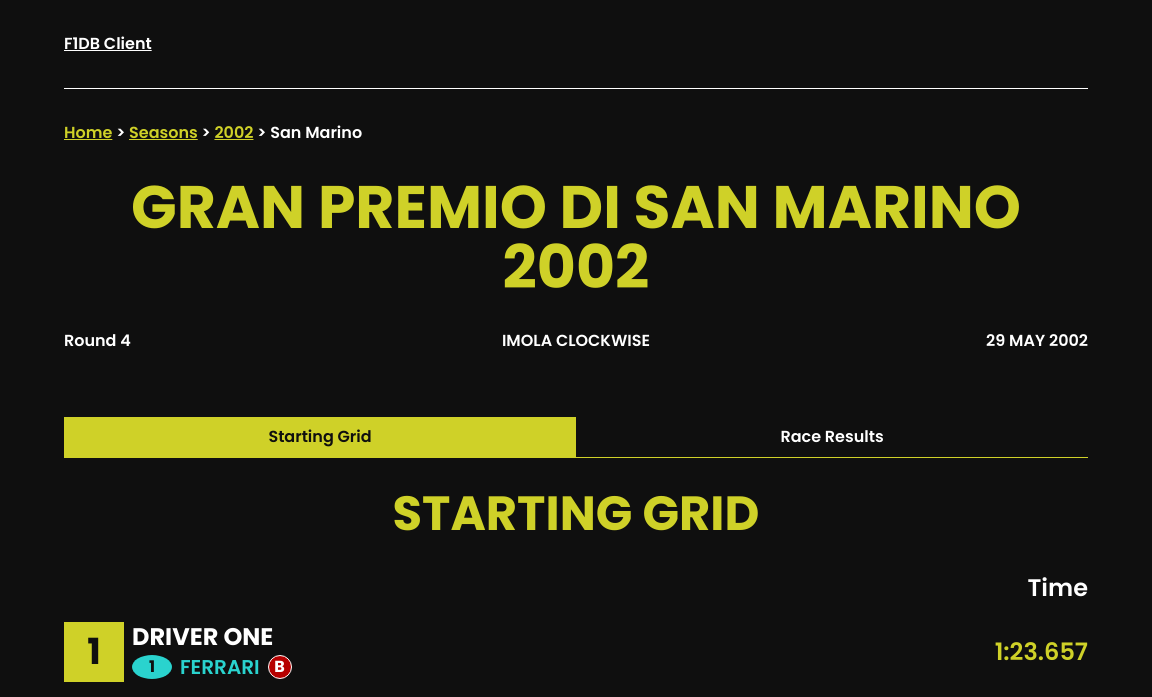
it: SeasonGrandPrixPage › should switch back to the starting grid tab from race results by clicking on its tab head
Step 1. Click the button with test id "tabs-tab-head" showing "Race Results" → coordinates (832, 437), box [576,417,1088,457]
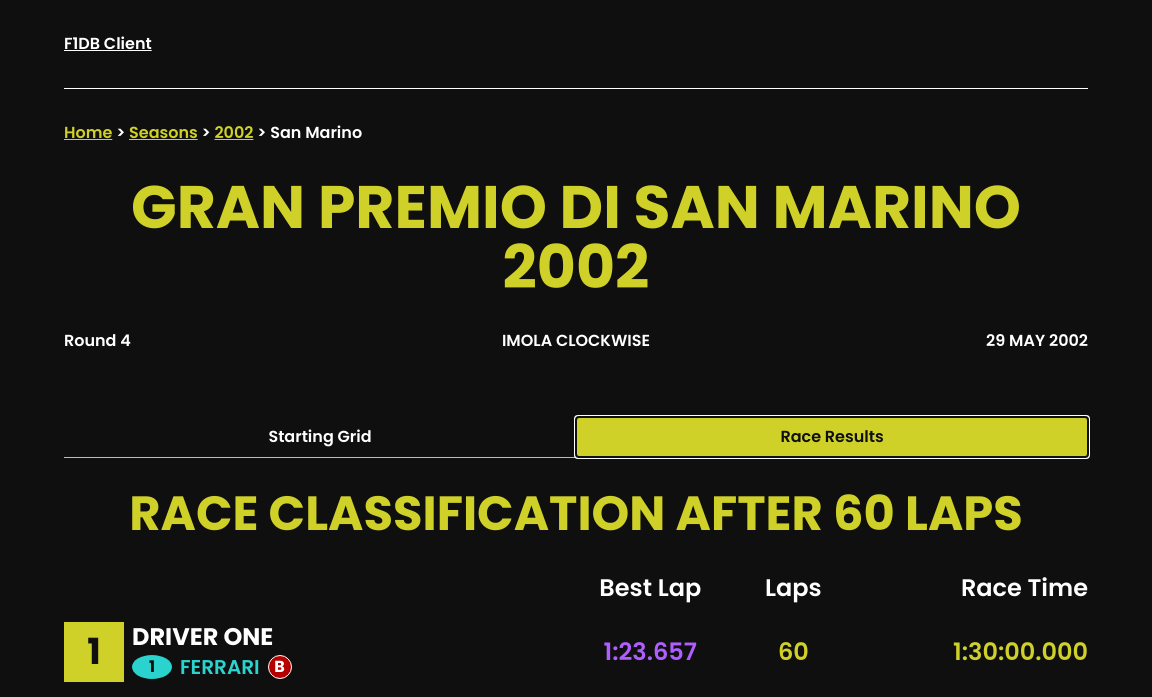
Step 2. Click the button with test id "tabs-tab-head" showing "Starting Grid" → coordinates (320, 437), box [64,417,576,457]
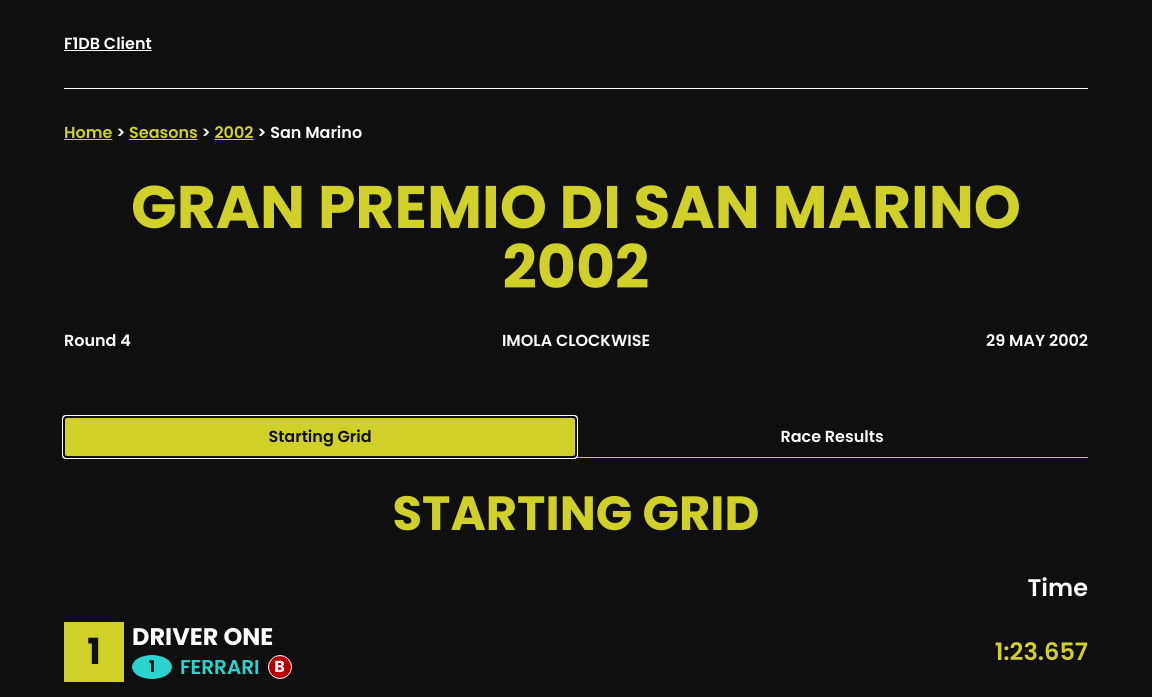
Check: the heading "Starting Grid" is shown, box [393,480,760,547]
